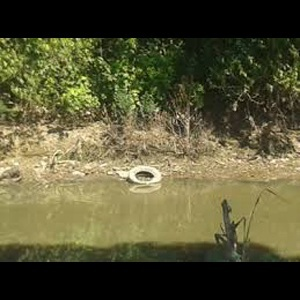tire: (126, 165, 164, 188)
